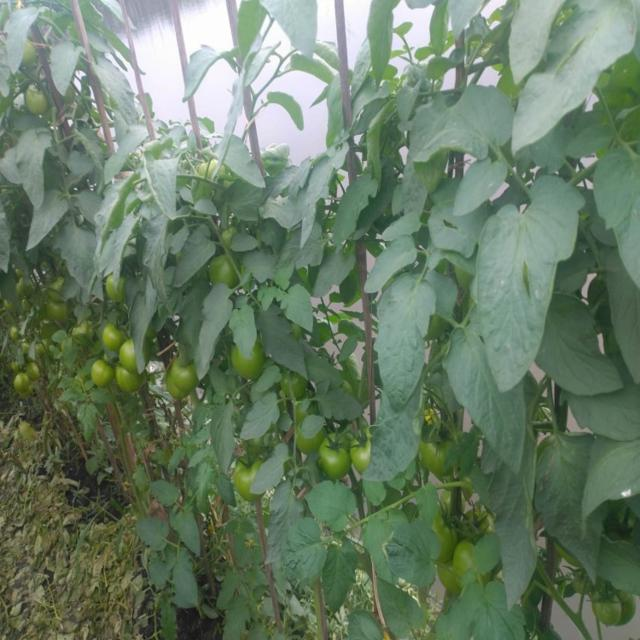tomato: (318, 428, 346, 477), (594, 587, 622, 629), (209, 254, 239, 291), (421, 443, 449, 478), (236, 350, 267, 381), (466, 506, 495, 538), (88, 359, 117, 391), (25, 87, 50, 123), (350, 432, 371, 471), (236, 459, 259, 494), (452, 532, 472, 571), (441, 512, 458, 556), (284, 373, 308, 402), (614, 595, 634, 628), (122, 342, 145, 370), (569, 572, 593, 598), (118, 369, 141, 396), (105, 327, 125, 355), (179, 358, 198, 387), (45, 301, 66, 321), (219, 225, 236, 249), (170, 376, 186, 400), (109, 278, 124, 303), (7, 327, 26, 346), (194, 158, 216, 173), (11, 371, 31, 387), (75, 323, 93, 337), (31, 363, 42, 383)
